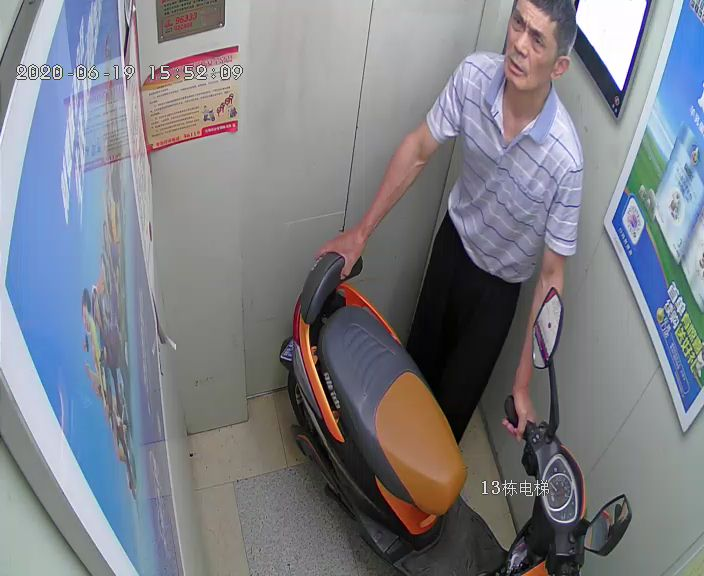Electric-bicycle: (292, 253, 631, 575)
